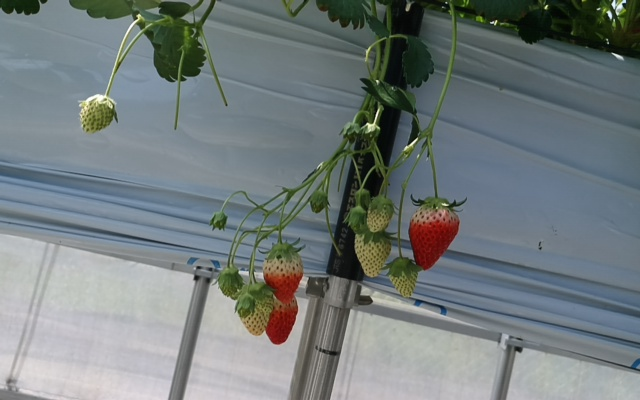GreenStrawberry: (235, 276, 274, 337), (351, 225, 394, 279), (77, 92, 119, 137), (382, 255, 420, 301), (363, 195, 396, 231)
MatureStrawberry: (406, 194, 462, 271), (259, 240, 305, 304), (265, 292, 300, 347)
